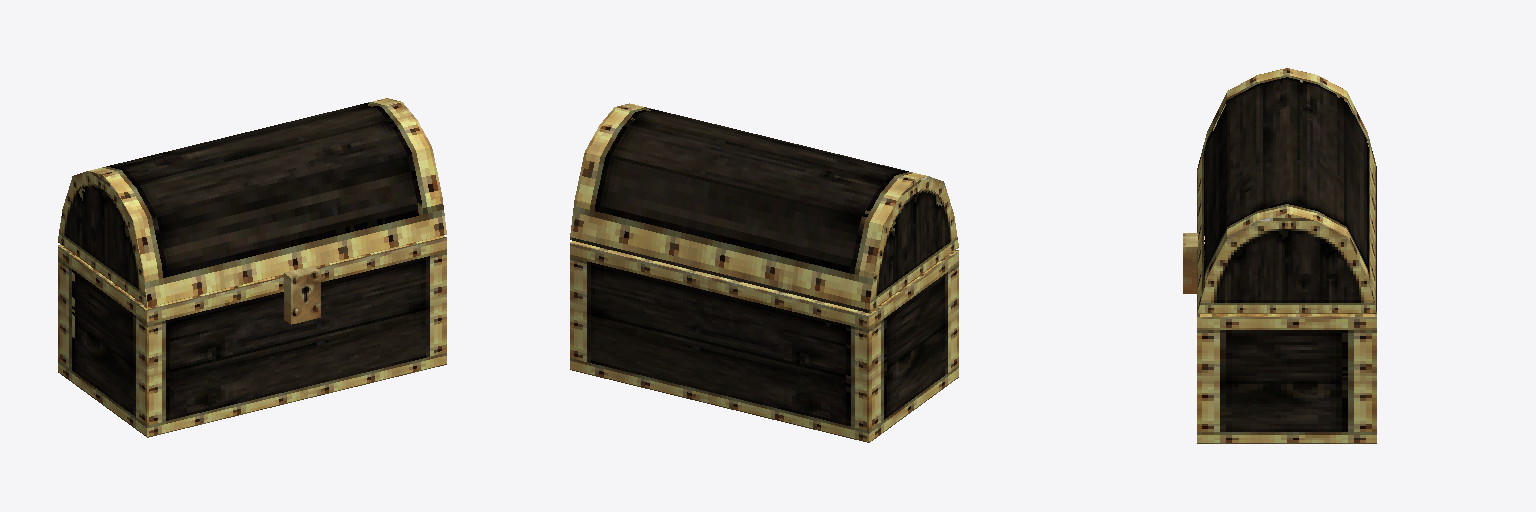
3 renders of one model, left to right at view 1: azimuth 30°, elevation 25°; view 2: azimuth 150°, elevation 25°; view 3: azimuth 270°, elevation 25°, orthographic.
Visible parts, largest first — view 1: Mesh_0; view 2: Mesh_0; view 3: Mesh_0.
Boxes of the visible parts, box(x1,y1,x2,y2) form: Mesh_0: box(58, 98, 446, 437); Mesh_0: box(570, 103, 958, 442); Mesh_0: box(1183, 68, 1376, 443).
Size of the model in its own units: 1.15 by 0.8404 by 0.6432.
1 materials, 1 textured.